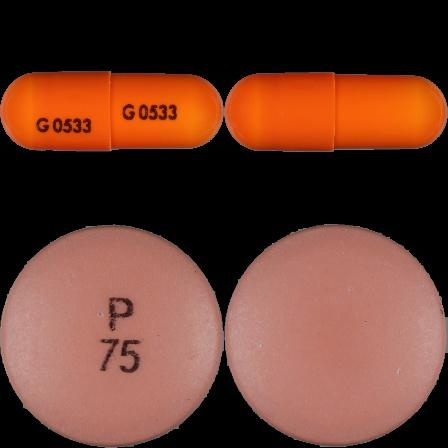68084-329: (0, 0, 224, 224)
